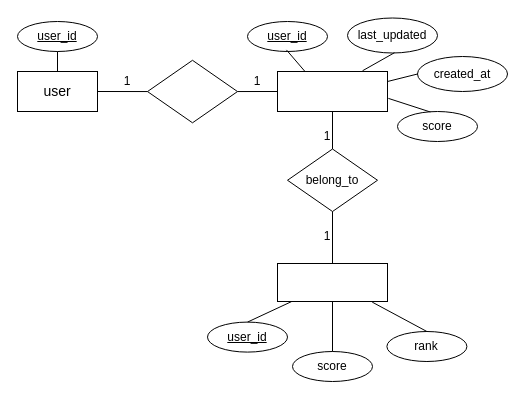
Some shapes in this 525 by 399 pixel diagram are drawn without their labels. The centre of each missing label's shape, as x and y in pixels:
has: (192,91)
score_board: (332,282)
user_scores: (332,91)
